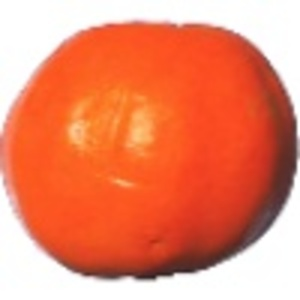tangerina: (2, 18, 300, 282)
